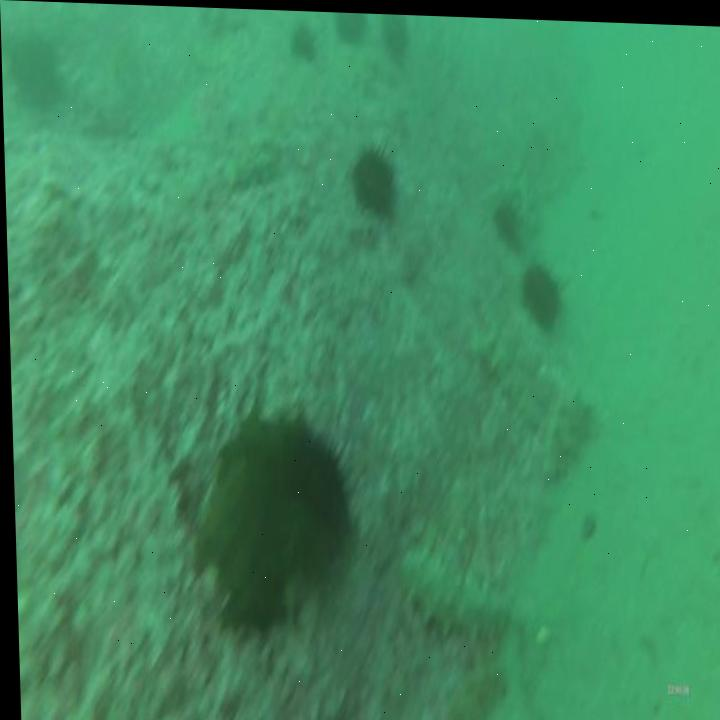echinus: (258, 409, 352, 570), (3, 27, 63, 117), (346, 134, 398, 221), (517, 255, 565, 325), (486, 192, 521, 248), (377, 11, 412, 65), (287, 17, 316, 66), (333, 10, 369, 46)
holothurian: (394, 535, 511, 654), (468, 318, 549, 426), (535, 378, 597, 485), (414, 657, 506, 720)
